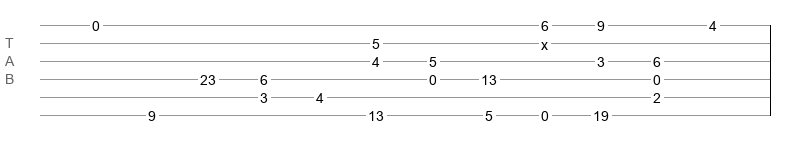0: (92, 18, 100, 28), (429, 72, 437, 82), (541, 108, 549, 118), (653, 72, 661, 82)
13: (368, 108, 384, 118), (481, 72, 497, 82)
19: (593, 108, 609, 118)
2: (653, 90, 661, 100)
23: (200, 72, 216, 82)
3: (260, 90, 268, 100), (597, 54, 605, 64)
4: (316, 90, 324, 100), (372, 54, 380, 64), (709, 18, 717, 28)
5: (372, 36, 380, 46), (429, 54, 437, 64), (485, 108, 493, 118)
6: (260, 72, 268, 82), (541, 18, 549, 28), (653, 54, 661, 64)
9: (148, 108, 156, 118), (597, 18, 605, 28)
x: (541, 37, 548, 45)
